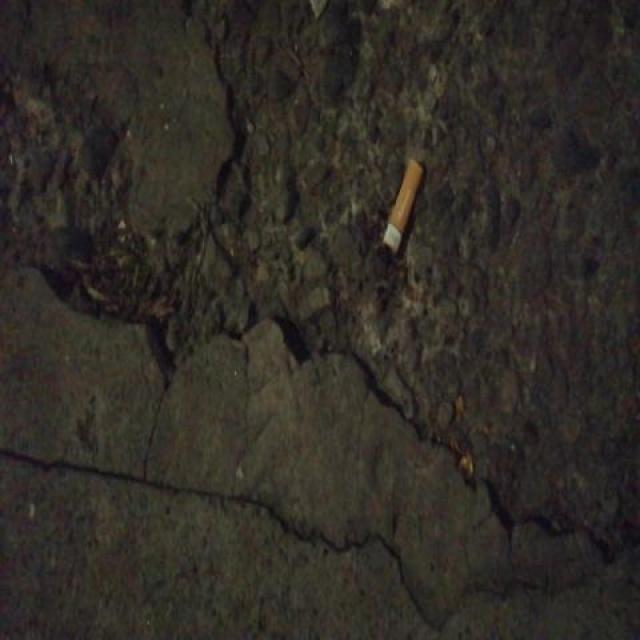non-organic waste: (380, 156, 425, 260)
